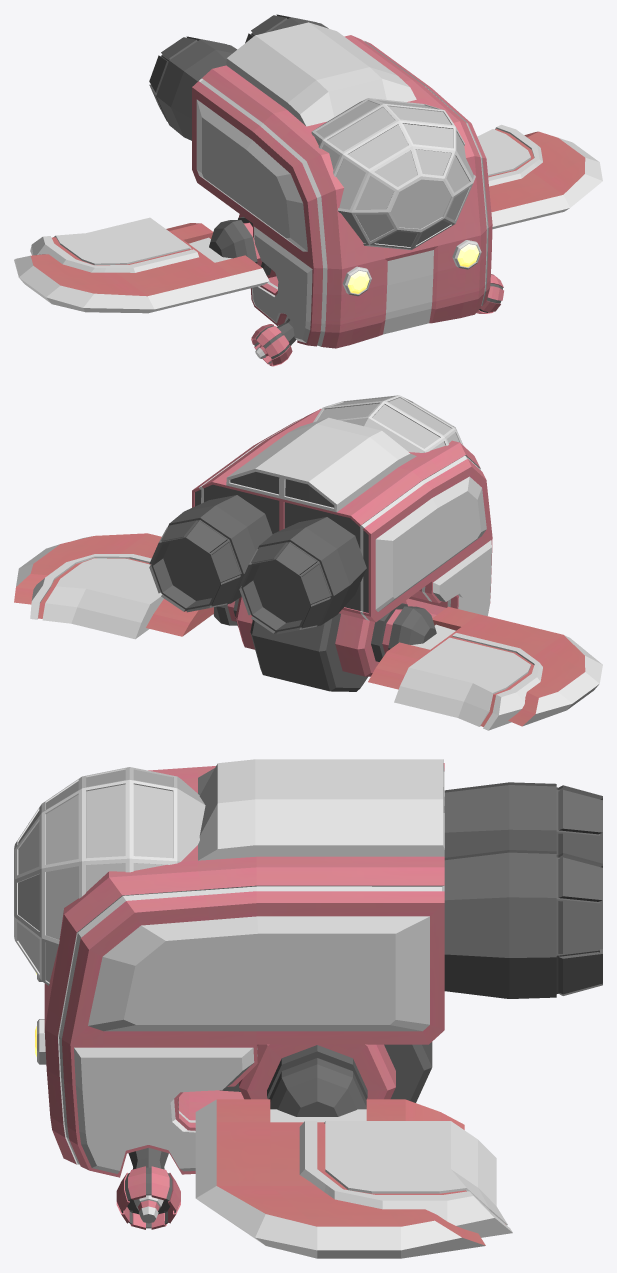
The model's file is PinkBubble.fbx.
3 renders of one model, top to bottom at view 1: azimuth 30°, elevation 25°; view 2: azimuth 150°, elevation 25°; view 3: azimuth 270°, elevation 25°, orthographic. The views are drawn at different scales.
Visible parts, largest first — view 1: PinkChassi, PinkWings, Bubble; view 2: PinkChassi, PinkWings, Bubble; view 3: PinkChassi, PinkWings, Bubble.
Part boxes in pixels (left/top/right/bottom): PinkChassi: left=149, top=14, right=503, bottom=366; PinkWings: left=14, top=124, right=602, bottom=313; Bubble: left=311, top=98, right=475, bottom=249; PinkChassi: left=149, top=408, right=492, bottom=691; PinkWings: left=14, top=533, right=602, bottom=730; Bubble: left=313, top=395, right=463, bottom=452; PinkChassi: left=35, top=759, right=602, bottom=1229; PinkWings: left=195, top=1099, right=512, bottom=1258; Bubble: left=14, top=767, right=205, bottom=985.
Size of the model in its own units: 6.19 by 2.56 by 3.7.
